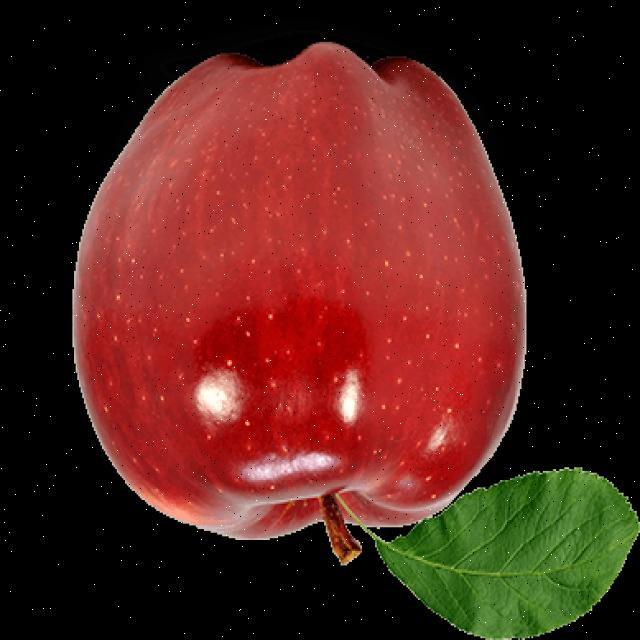Apel: (70, 41, 526, 568)
